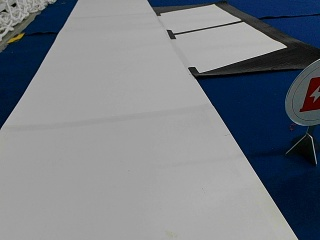battery: (286, 60, 319, 126)
